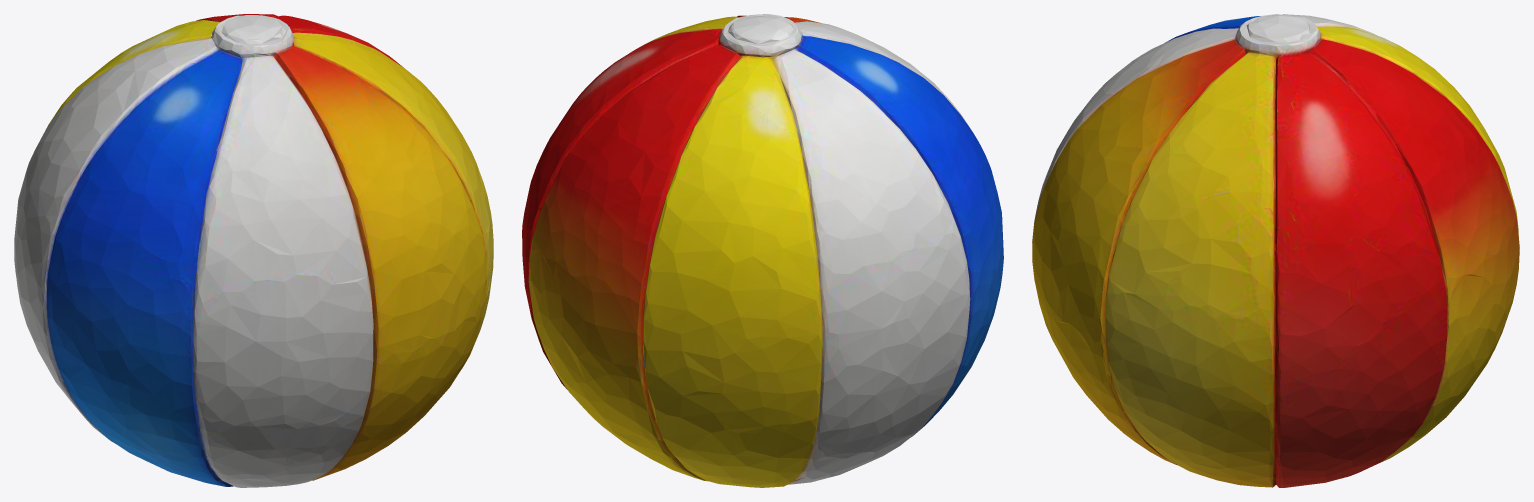
The model's file is ballonplage.glb.
3 renders of one model, left to right at view 1: azimuth 30°, elevation 25°; view 2: azimuth 150°, elevation 25°; view 3: azimuth 270°, elevation 25°, orthographic.
Parts seen in each view (by area): view 1: geometry_0; view 2: geometry_0; view 3: geometry_0.
Boxes of the visible parts, x1=… form: geometry_0: x1=14, y1=14, x2=493, y2=487; geometry_0: x1=522, y1=14, x2=1003, y2=487; geometry_0: x1=1032, y1=14, x2=1519, y2=487.
Bounding box in the file's own units: 0.9875 × 0.9979 × 0.9929.
Materials: 1 (1 with a texture image).
